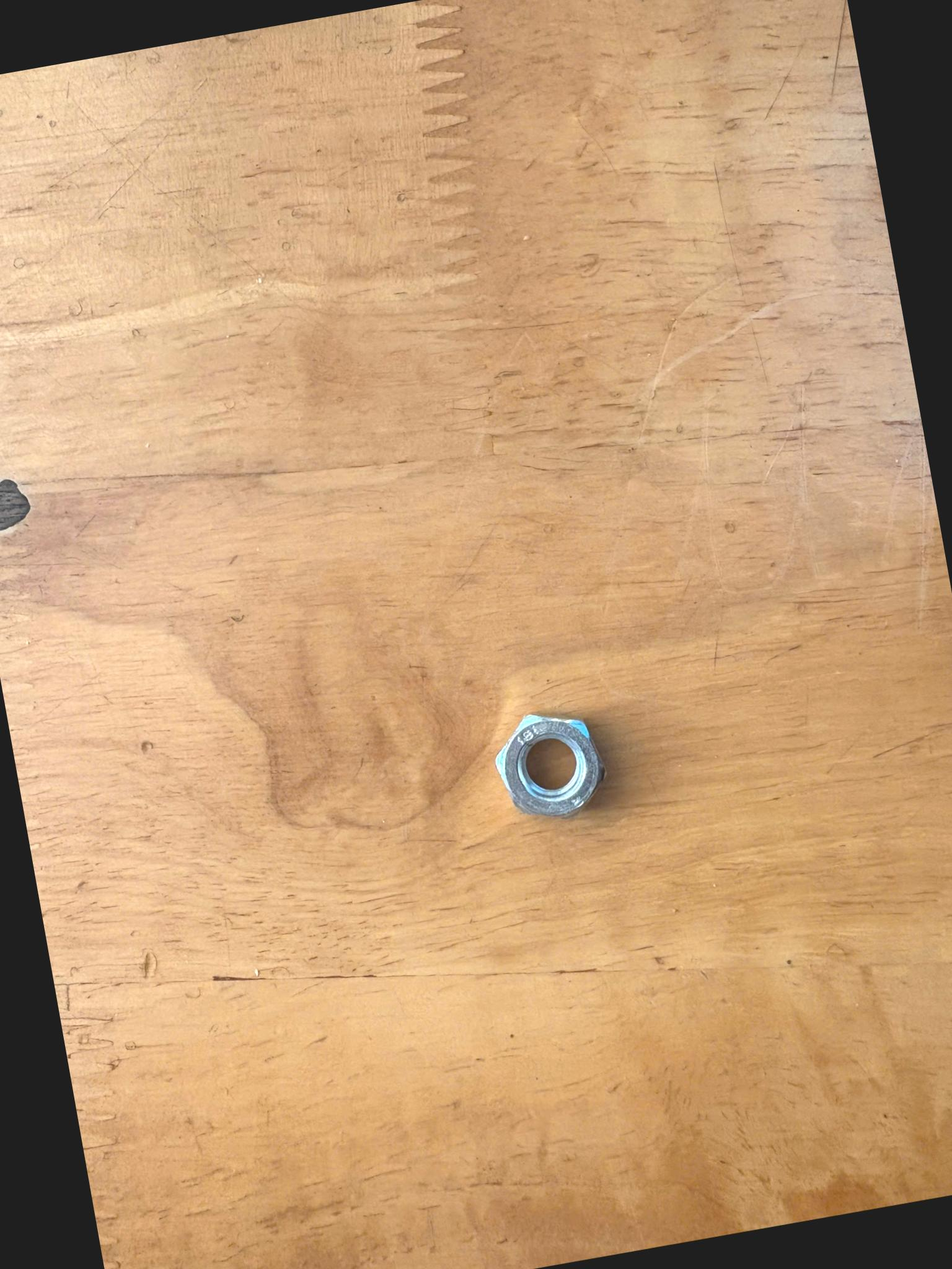nut: (450, 687, 625, 878)
